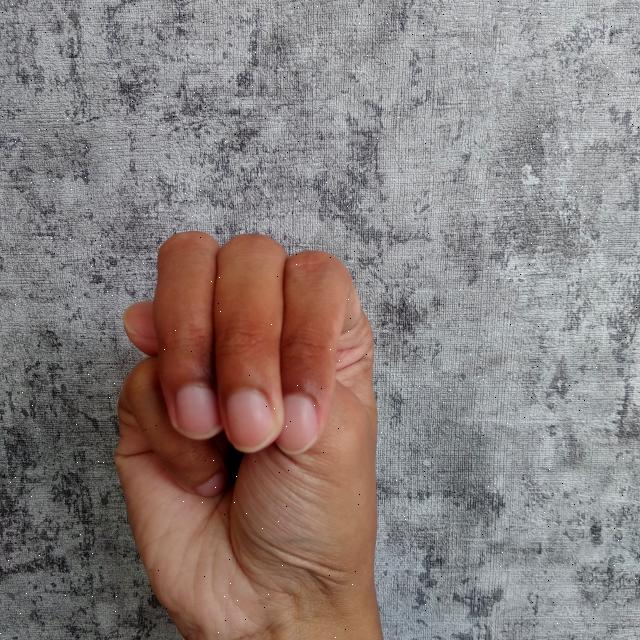M: (107, 215, 400, 640)
